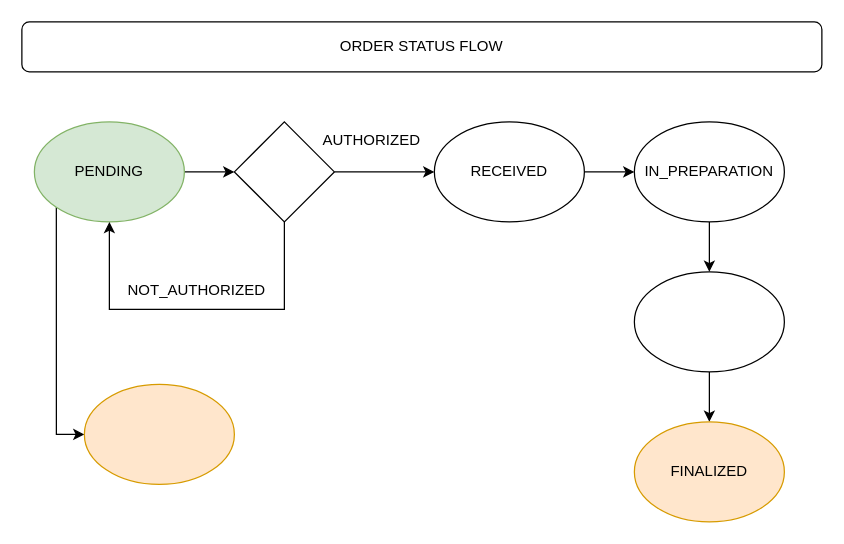
Some shapes in this 844 by 544 pixel diagram are drawn without their labels. The shapes that lost their labels are listed below. From the top down, each one's centre as x and y in pixels, then its label:
the point at 283,171: payment
the point at 708,321: READY
the point at 158,433: EXPIRED
